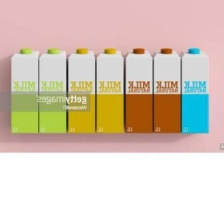carton: (8, 45, 38, 136), (180, 45, 210, 135), (123, 45, 153, 135), (153, 44, 181, 136), (38, 47, 67, 135), (95, 46, 124, 134), (67, 47, 95, 135)
